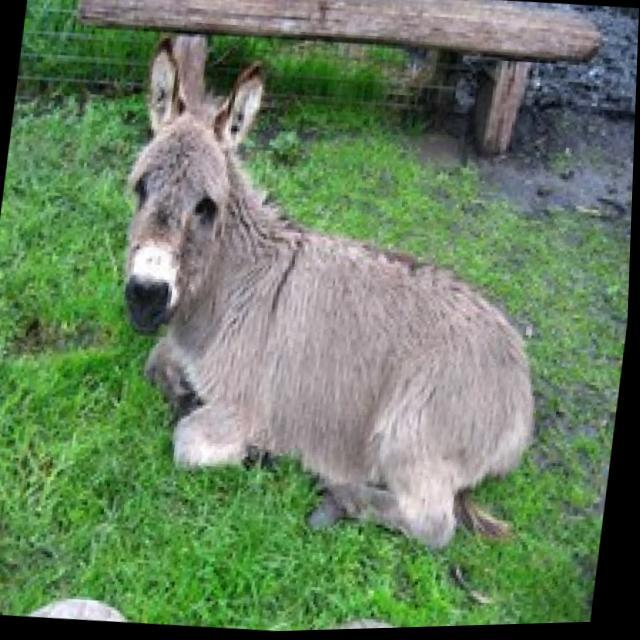Donkey: (34, 19, 594, 608)
